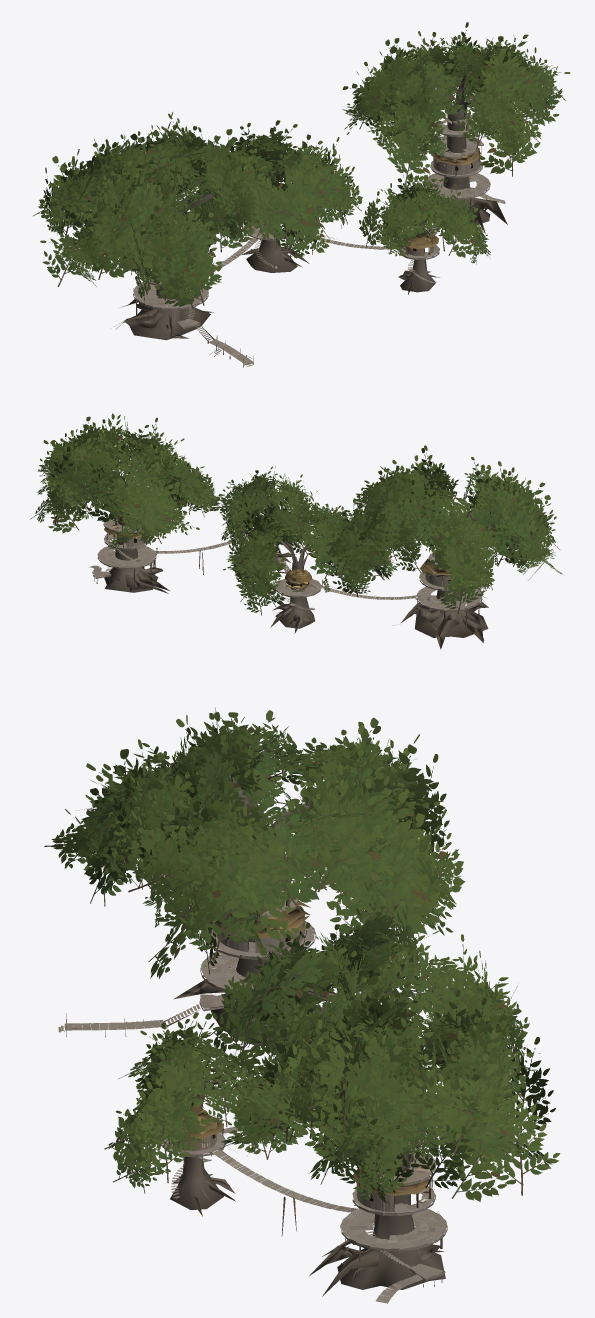
The model's file is village-overview.glb.
The picture shows the model from 3 angles, top to bottom: view 1: azimuth 30°, elevation 25°; view 2: azimuth 150°, elevation 25°; view 3: azimuth 270°, elevation 25°; orthographic projection. The views are drawn at different scales.
Visible parts, largest first — view 1: Native village leaves, Native village treehouses and bridges; view 2: Native village leaves, Native village treehouses and bridges; view 3: Native village leaves, Native village treehouses and bridges.
Boxes of the visible parts, box(x1,y1,x2,y2) form: Native village leaves: box(33, 22, 570, 308); Native village treehouses and bridges: box(115, 71, 507, 367); Native village leaves: box(30, 413, 562, 617); Native village treehouses and bridges: box(89, 462, 500, 649); Native village leaves: box(44, 707, 560, 1211); Native village treehouses and bridges: box(58, 775, 451, 1303).
Size of the model in its own units: 14.03 by 4.42 by 7.33.
Materials: 2 (1 with a texture image).
